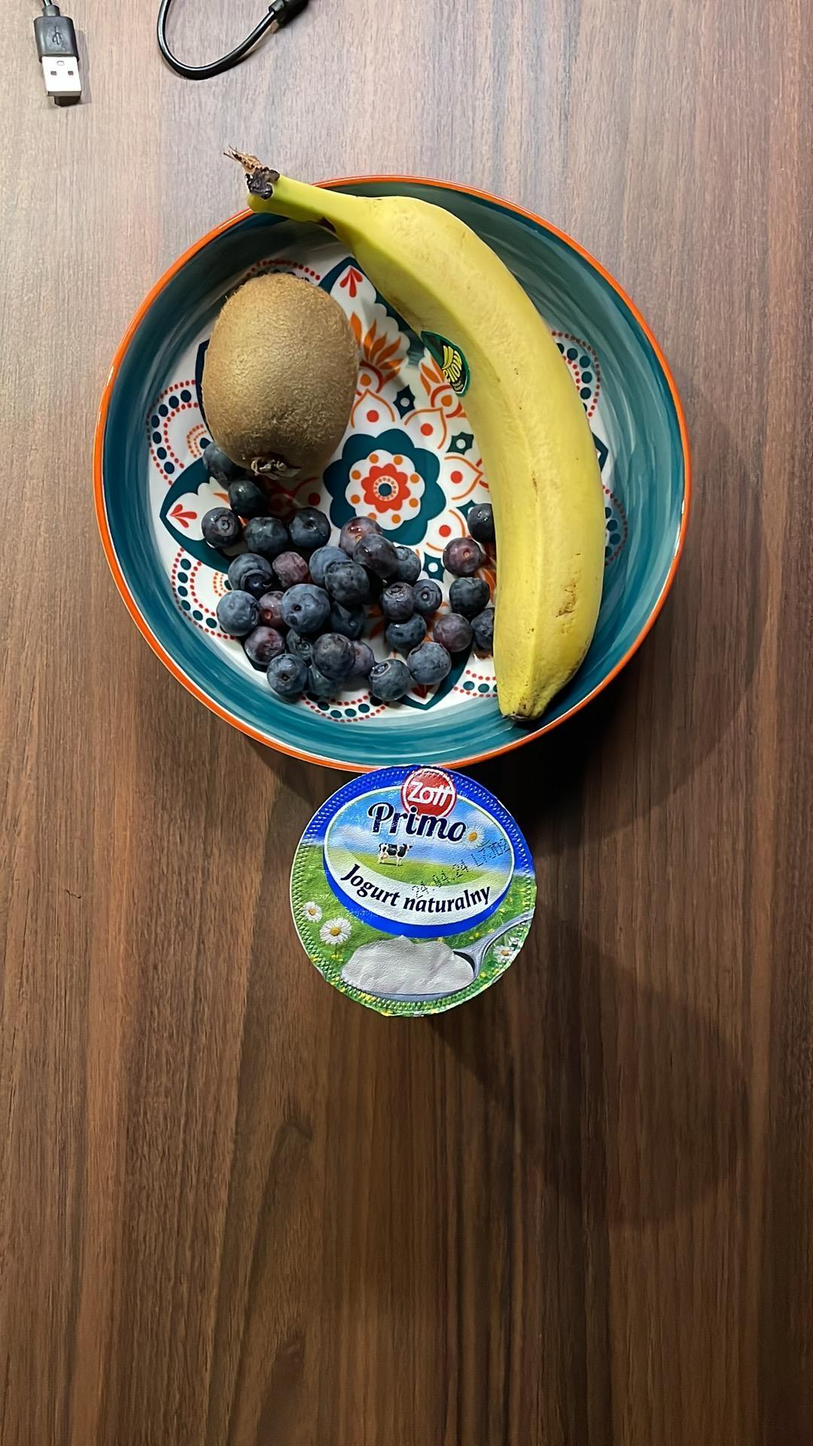banana: (390, 153, 604, 723)
blueberry: (281, 587, 331, 633), (215, 589, 259, 636), (228, 551, 273, 593), (312, 633, 353, 678), (245, 515, 288, 556), (199, 513, 243, 552), (434, 610, 473, 654), (329, 562, 370, 602), (227, 473, 264, 515), (267, 655, 306, 694), (287, 510, 327, 548), (441, 534, 479, 574), (242, 624, 281, 662), (373, 660, 410, 699), (271, 551, 311, 587), (329, 600, 368, 636), (199, 440, 233, 481), (358, 537, 399, 571), (410, 645, 446, 683), (452, 575, 486, 612), (306, 671, 344, 704), (307, 545, 346, 575), (468, 501, 497, 541), (388, 616, 425, 647), (349, 637, 375, 681), (394, 542, 419, 584), (383, 580, 411, 616), (340, 518, 373, 548), (410, 578, 439, 611), (475, 606, 496, 651), (258, 591, 285, 625)
kiwi: (192, 262, 363, 484)
